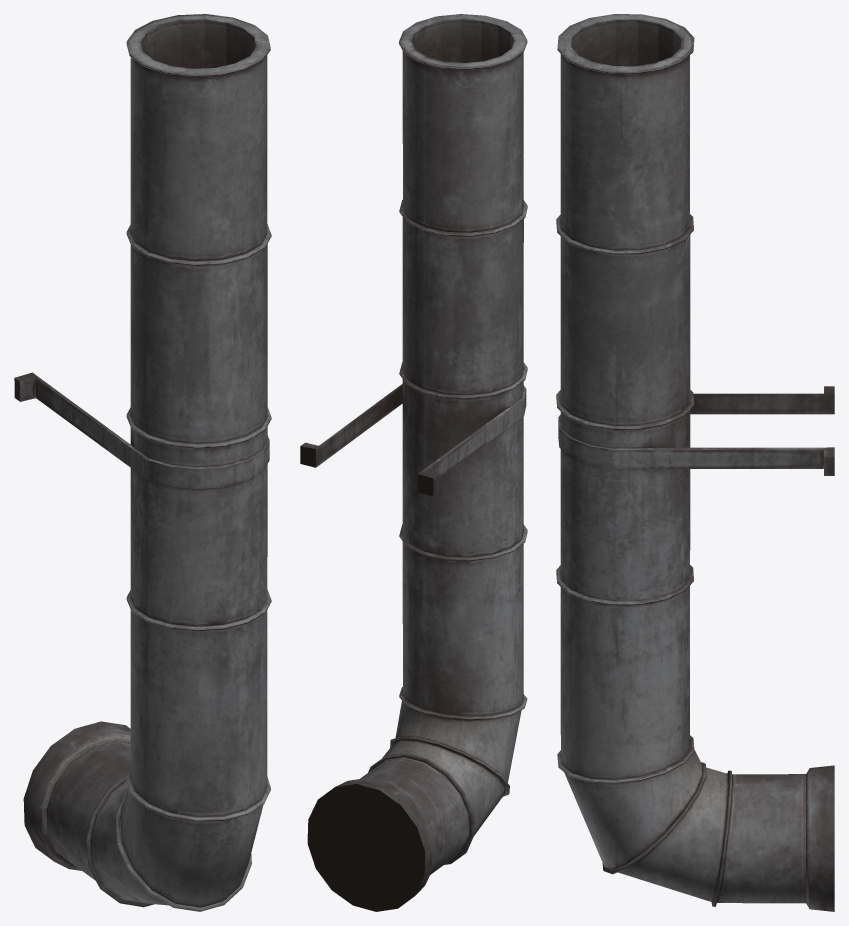
The model's file is Chimney_A_Short.fbx.
3 renders of one model, left to right at view 1: azimuth 30°, elevation 25°; view 2: azimuth 150°, elevation 25°; view 3: azimuth 270°, elevation 25°, orthographic. The views are drawn at different scales.
Visible parts, largest first — view 1: Chimney_A_Short; view 2: Chimney_A_Short; view 3: Chimney_A_Short.
Part boxes in pixels (left/top/right/bottom): Chimney_A_Short: left=14, top=14, right=271, bottom=911; Chimney_A_Short: left=300, top=14, right=527, bottom=911; Chimney_A_Short: left=556, top=14, right=834, bottom=911.
Bounding box in the file's own units: 30.09 × 172 × 50.35.
1 material, 1 textured.
